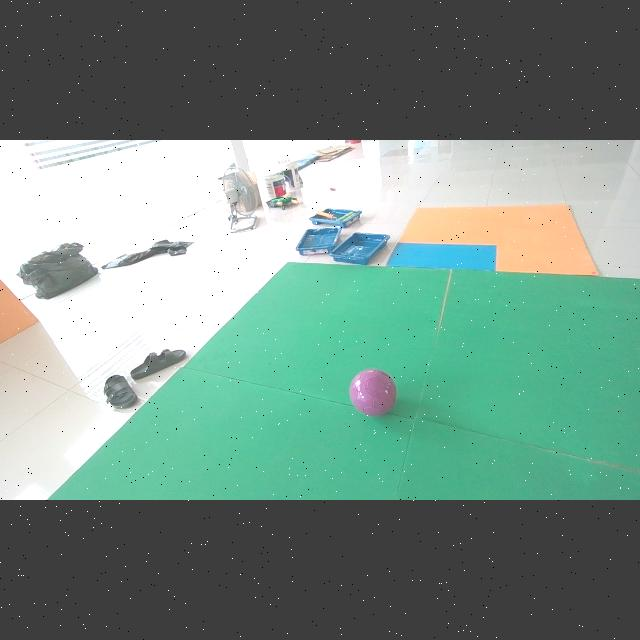P: (350, 370, 396, 417)
